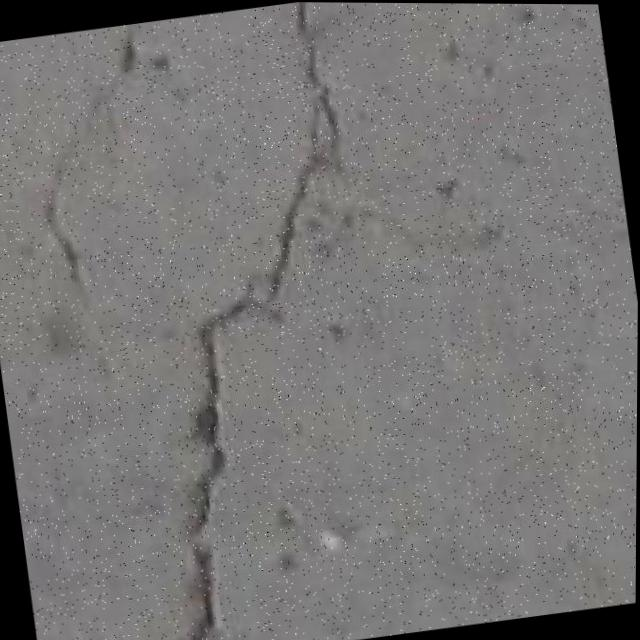Crack: (77, 0, 428, 640)
